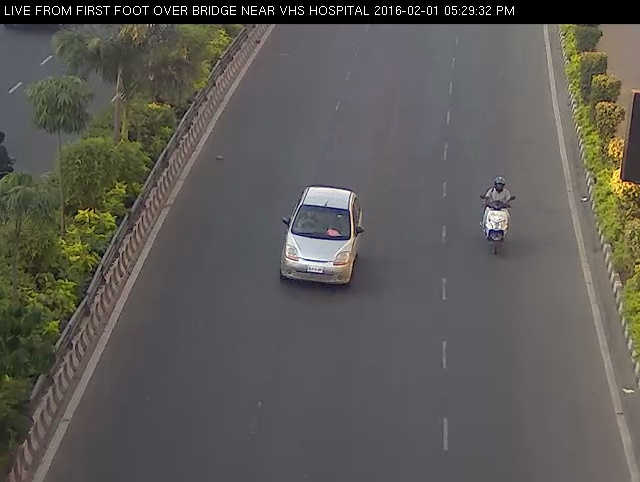Car: (271, 169, 373, 294)
Person: (478, 173, 519, 262)
